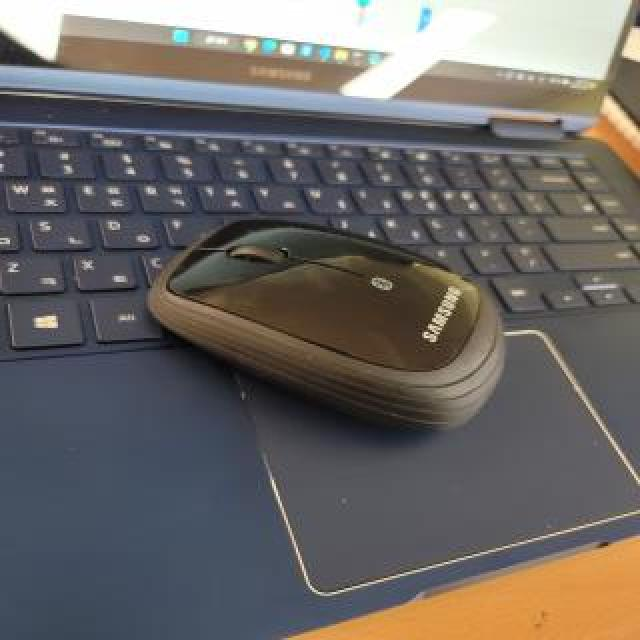laptop_computer: (8, 2, 638, 624)
mouse: (175, 214, 544, 419)
